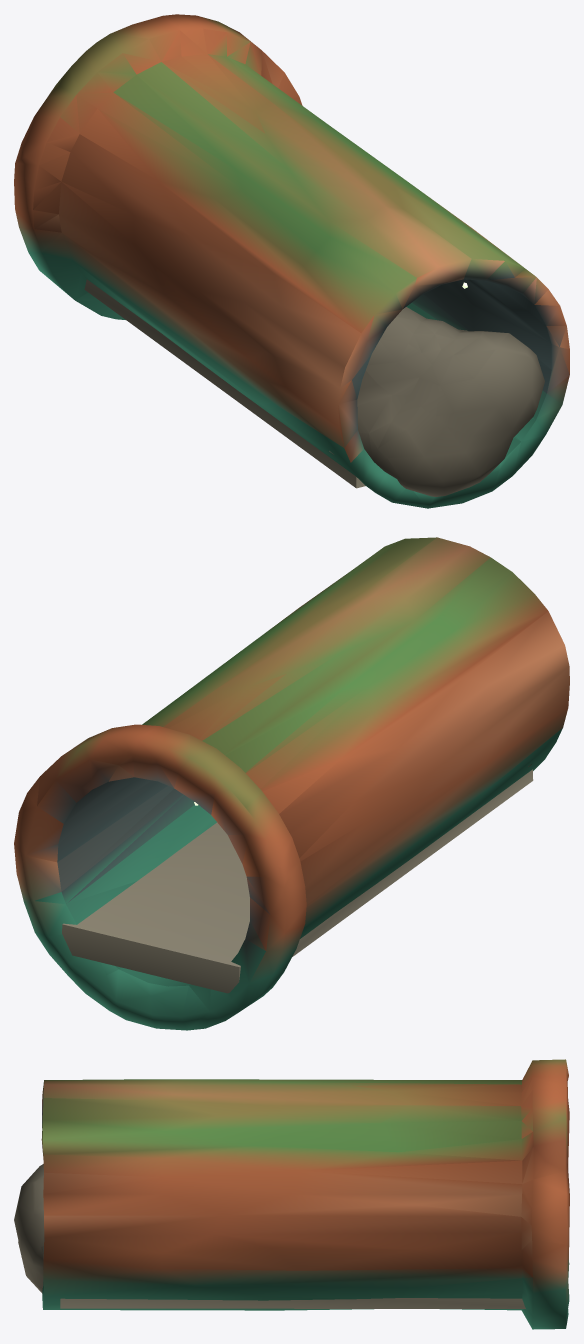
File: grotto_drain_pipe_lod2.glb
The picture shows the model from 3 angles, top to bottom: view 1: azimuth 30°, elevation 25°; view 2: azimuth 150°, elevation 25°; view 3: azimuth 270°, elevation 25°; orthographic projection. The views are drawn at different scales.
Visible parts, largest first — view 1: grotto_drain_pipe.001; view 2: grotto_drain_pipe.001; view 3: grotto_drain_pipe.001.
Part boxes in pixels (x1,y1,x2,y2): grotto_drain_pipe.001: (14,14,569,508); grotto_drain_pipe.001: (14,537,569,1030); grotto_drain_pipe.001: (14,1059,569,1329).
Bounding box in the file's own units: 9.86 × 9.81 × 20.23.
